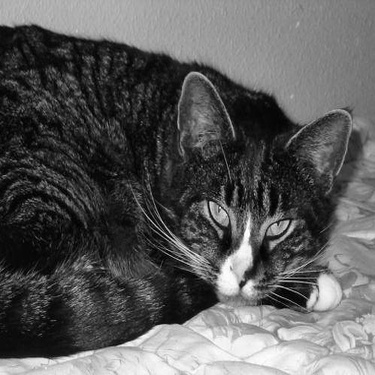cat: (1, 21, 353, 359)
